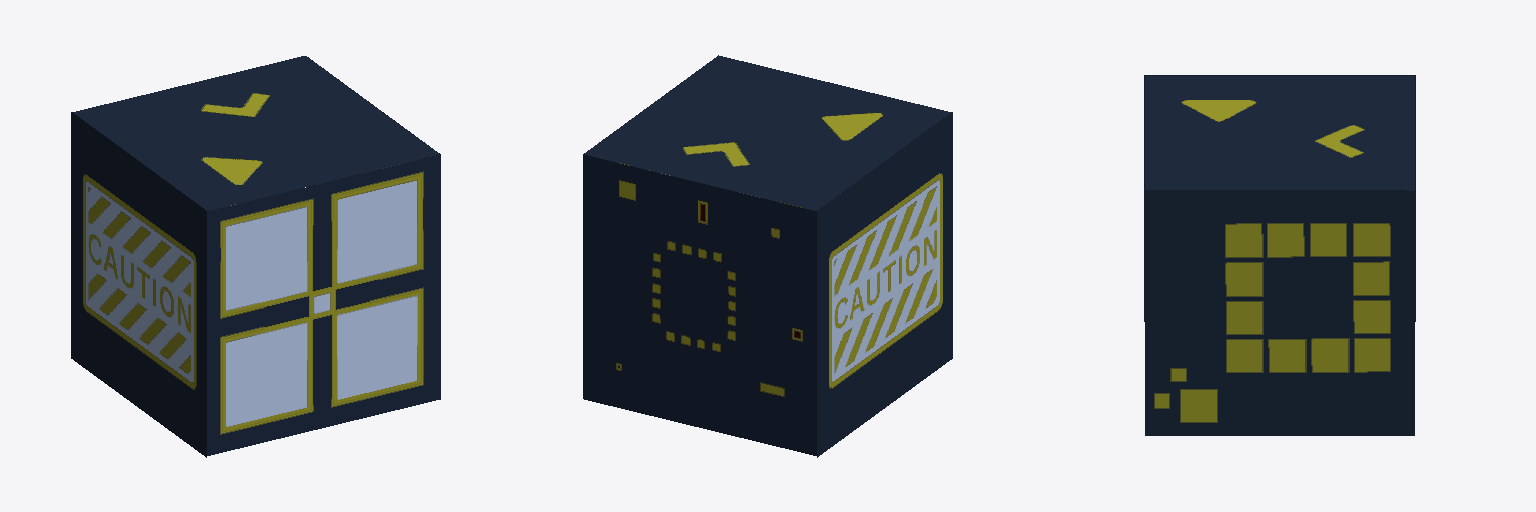
The picture shows the model from 3 angles: view 1: azimuth 30°, elevation 25°; view 2: azimuth 150°, elevation 25°; view 3: azimuth 270°, elevation 25°; orthographic projection.
Parts seen in each view (by area): view 1: skrzynia1; view 2: skrzynia1; view 3: skrzynia1.
Part boxes in pixels (x1,y1,x2,y2): skrzynia1: (71, 56, 440, 457); skrzynia1: (583, 55, 952, 457); skrzynia1: (1144, 75, 1415, 435).
Bounding box in the file's own units: 4.08 × 4.11 × 4.11.
Materials: 1 (1 with a texture image).